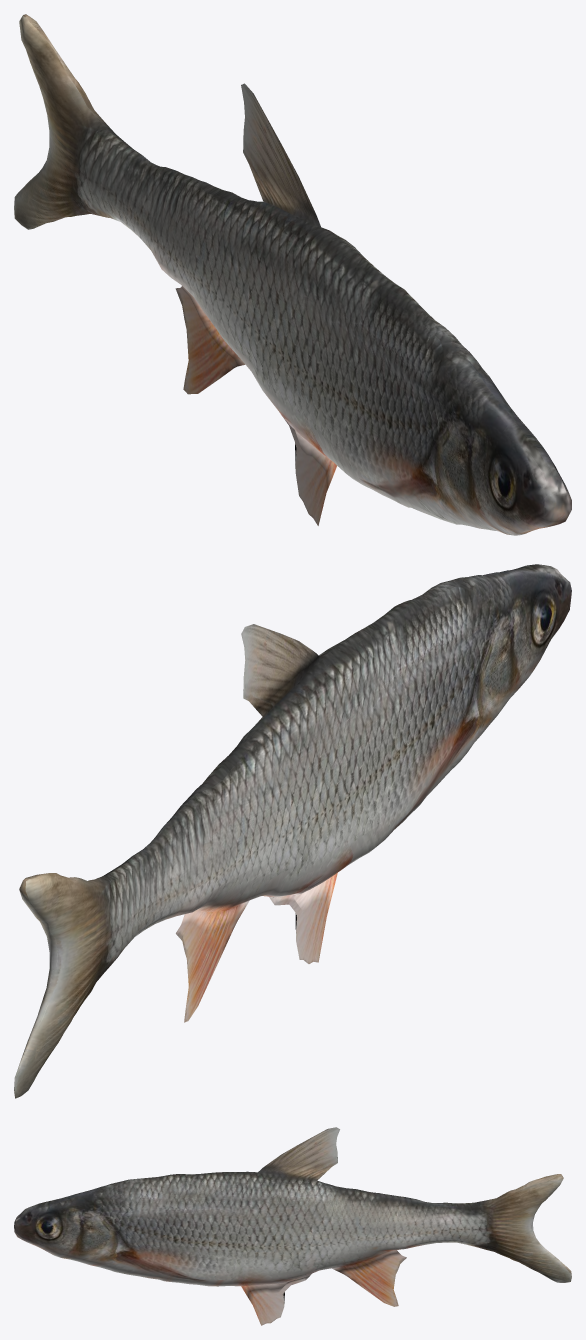
Rendered from simple_fish (1).glb.
3 renders of one model, top to bottom at view 1: azimuth 30°, elevation 25°; view 2: azimuth 150°, elevation 25°; view 3: azimuth 270°, elevation 25°, orthographic. The views are drawn at different scales.
Visible parts, largest first — view 1: Fish_3; view 2: Fish_3; view 3: Fish_3.
Part boxes in pixels (x1=…): Fish_3: x1=14, y1=14, x2=571, y2=535; Fish_3: x1=14, y1=564, x2=571, y2=1098; Fish_3: x1=14, y1=1127, x2=571, y2=1325.
Bounding box in the file's own units: 0.2049 × 1.81 × 4.6.
Materials: 1 (1 with a texture image).
